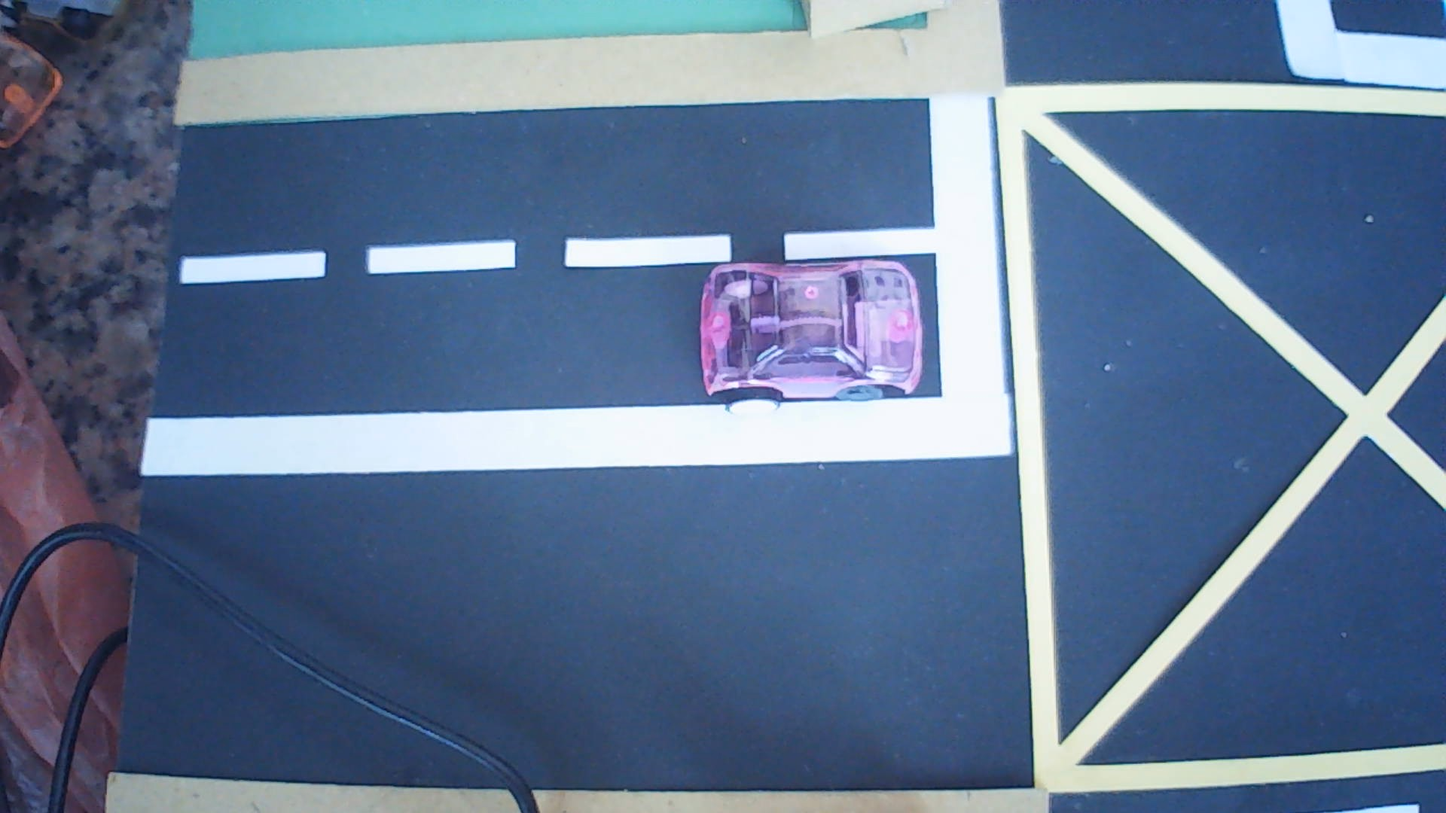Mobil ungu: (700, 260, 923, 412)
